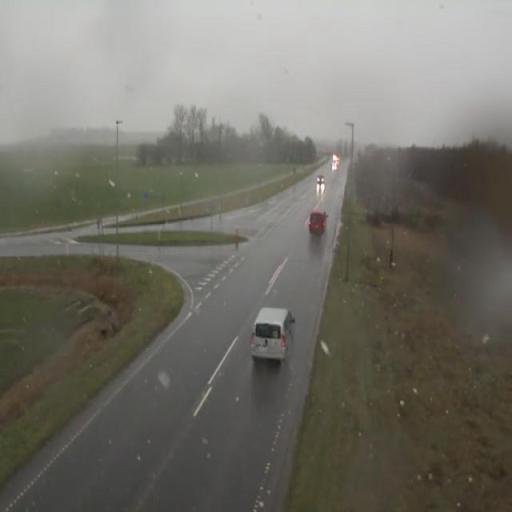小汽车: (253, 305, 295, 361), (308, 209, 330, 240)
